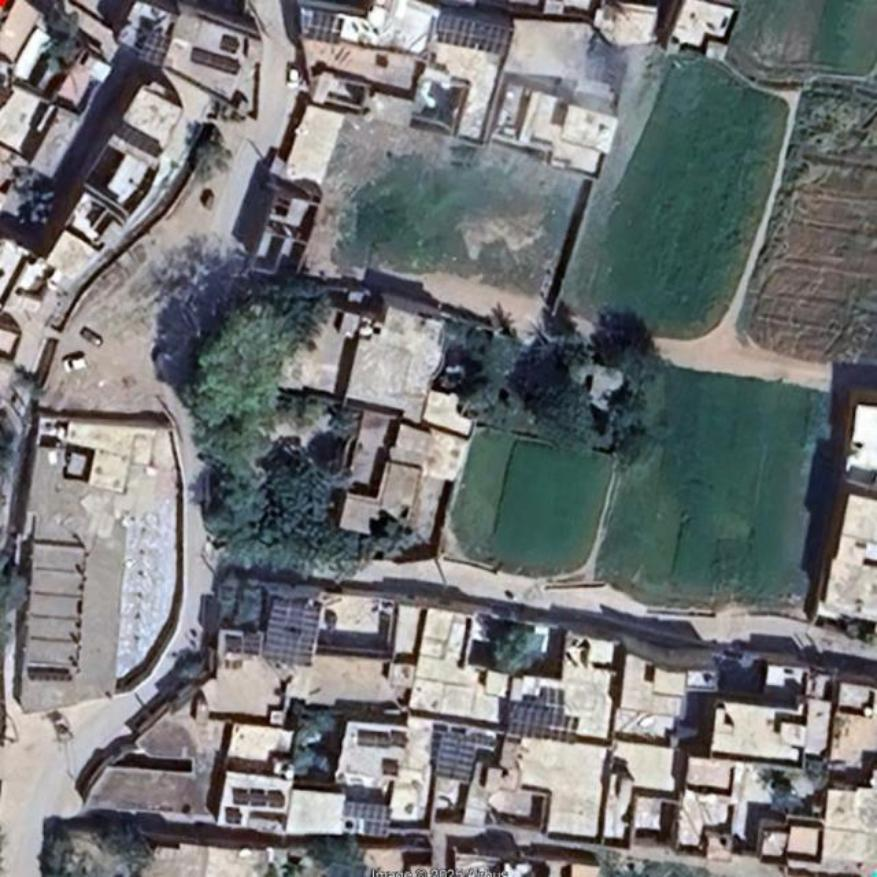Solarpanel: (264, 599, 319, 665), (435, 14, 514, 51), (432, 730, 478, 783), (137, 29, 173, 66), (365, 804, 392, 837), (509, 709, 564, 725)
